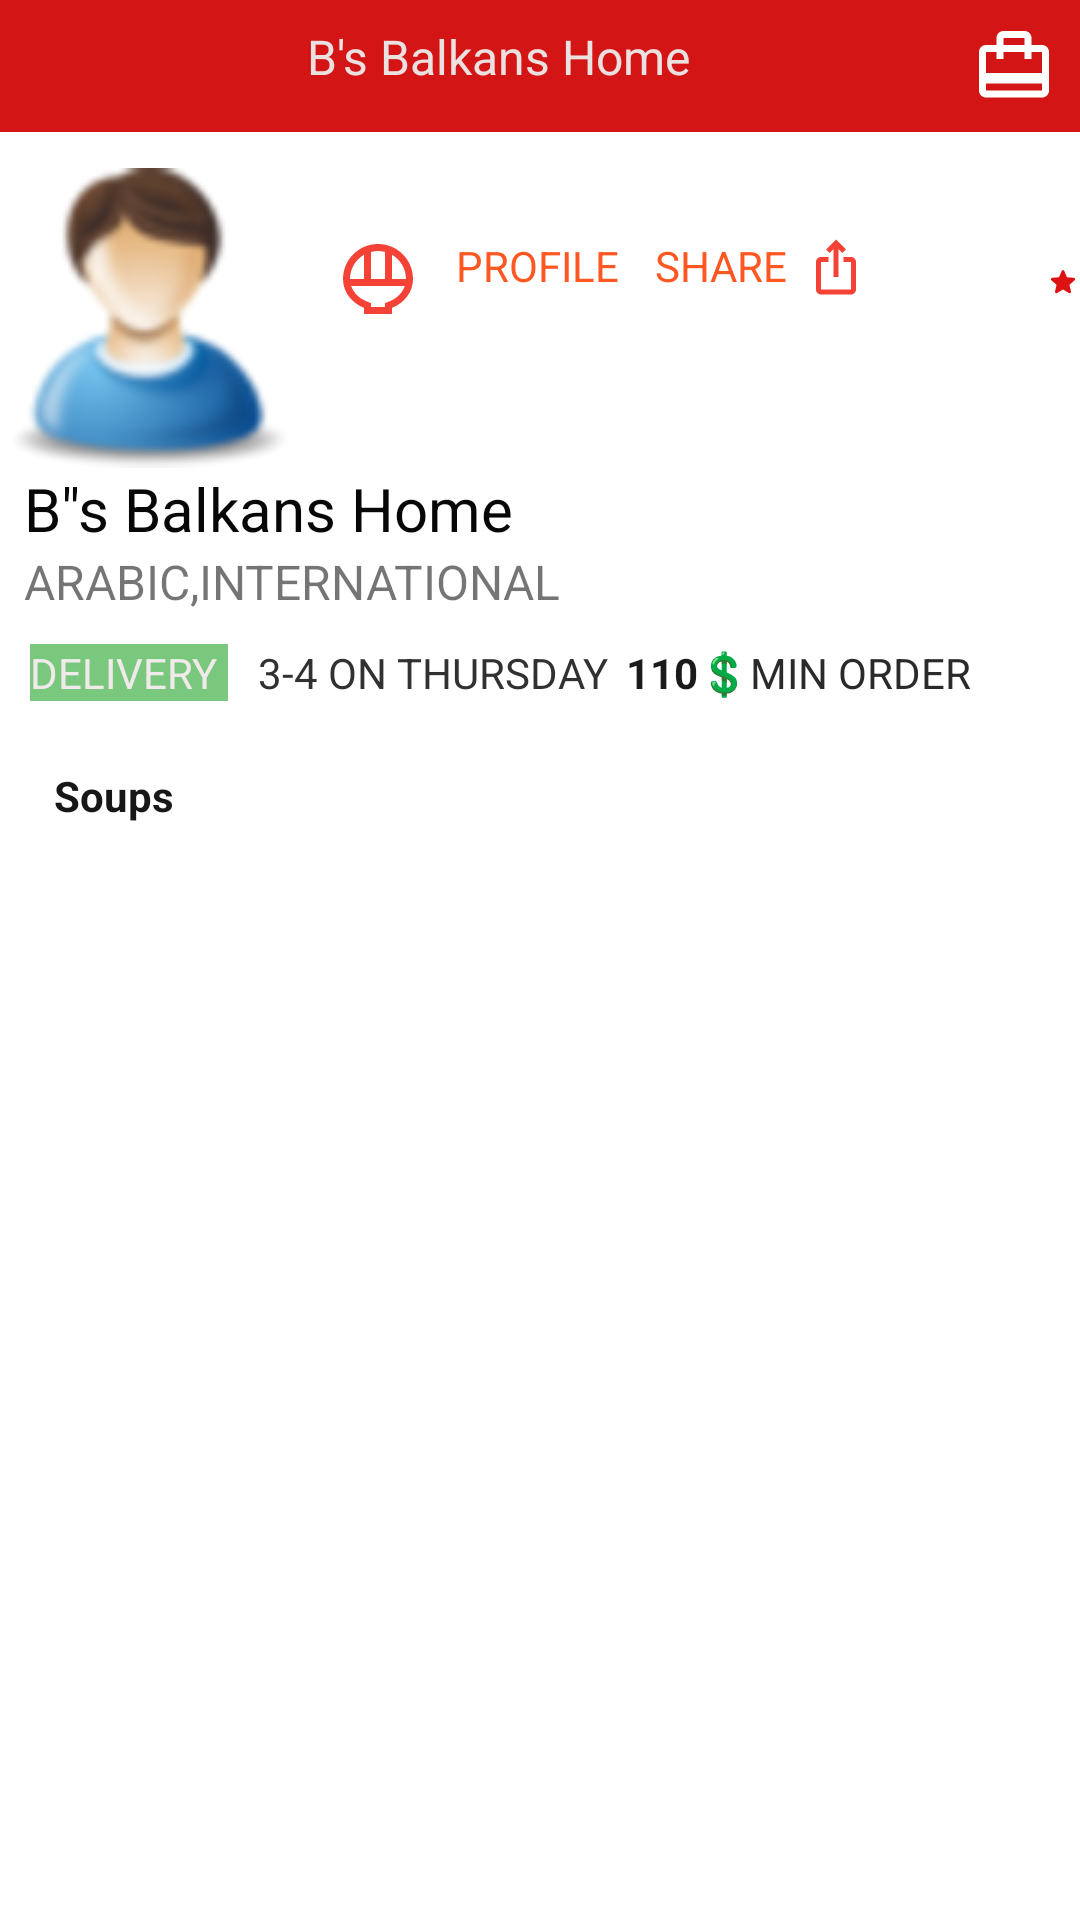

Where icons sit on this 1080×1920 app screen, as (x1, y1, x2, y2):
card travel: (979, 31, 1049, 98)
person: (24, 168, 275, 463)
rice bowl: (343, 244, 413, 314)
star: (1051, 270, 1075, 294)
